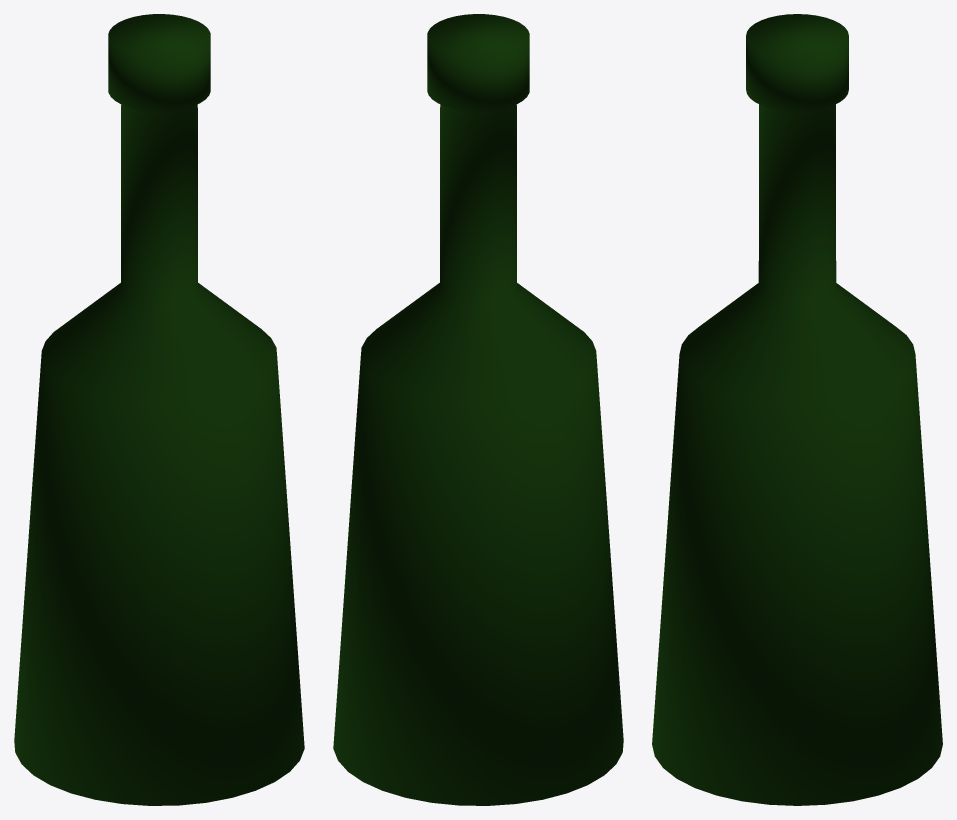
File: Botella 1.fbx
The picture shows the model from 3 angles, left to right: view 1: azimuth 30°, elevation 25°; view 2: azimuth 150°, elevation 25°; view 3: azimuth 270°, elevation 25°; orthographic projection.
Parts seen in each view (by area): view 1: Botella bien verde; view 2: Botella bien verde; view 3: Botella bien verde.
Boxes of the visible parts, x1=… form: Botella bien verde: x1=14, y1=14, x2=304, y2=805; Botella bien verde: x1=333, y1=14, x2=623, y2=805; Botella bien verde: x1=652, y1=14, x2=942, y2=805.
Size of the model in its own units: 201 by 542 by 201.
